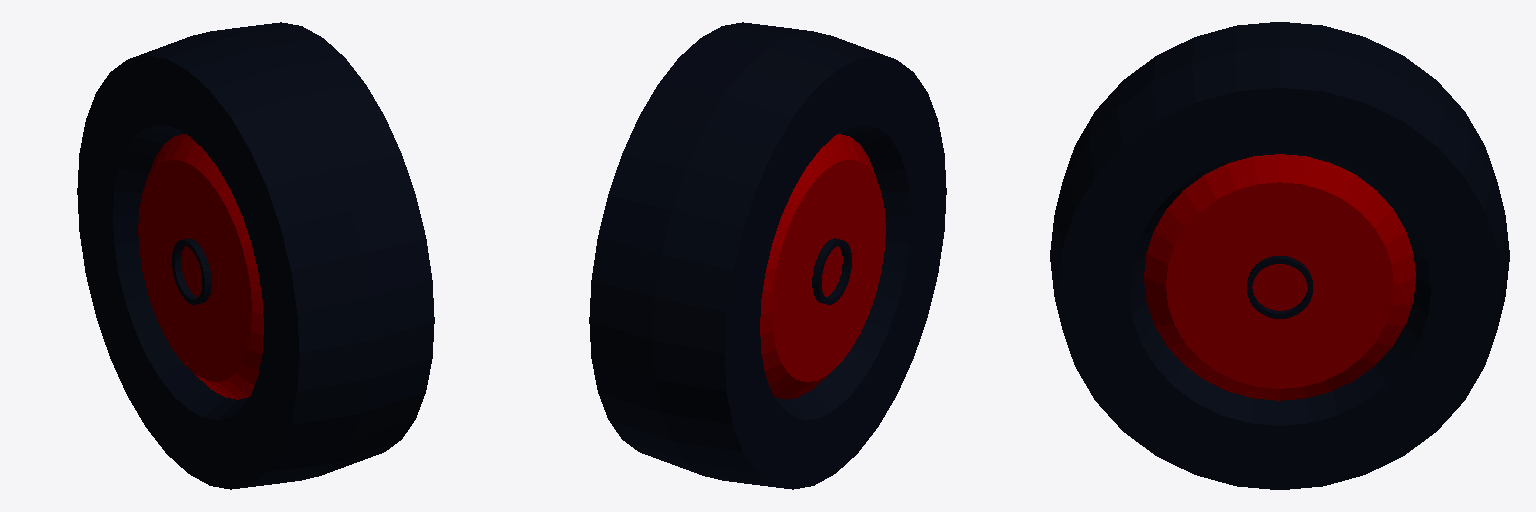
The model's file is car_wheel.obj.
3 renders of one model, left to right at view 1: azimuth 30°, elevation 25°; view 2: azimuth 150°, elevation 25°; view 3: azimuth 270°, elevation 25°, orthographic.
Visible parts, largest first — view 1: Cylinder.001; view 2: Cylinder.001; view 3: Cylinder.001.
Boxes of the visible parts, <box> form: Cylinder.001: <box>77,22,434,489</box>; Cylinder.001: <box>589,22,946,489</box>; Cylinder.001: <box>1050,22,1509,489</box>.
Bounding box in the file's own units: 0.8 × 2.36 × 2.36.